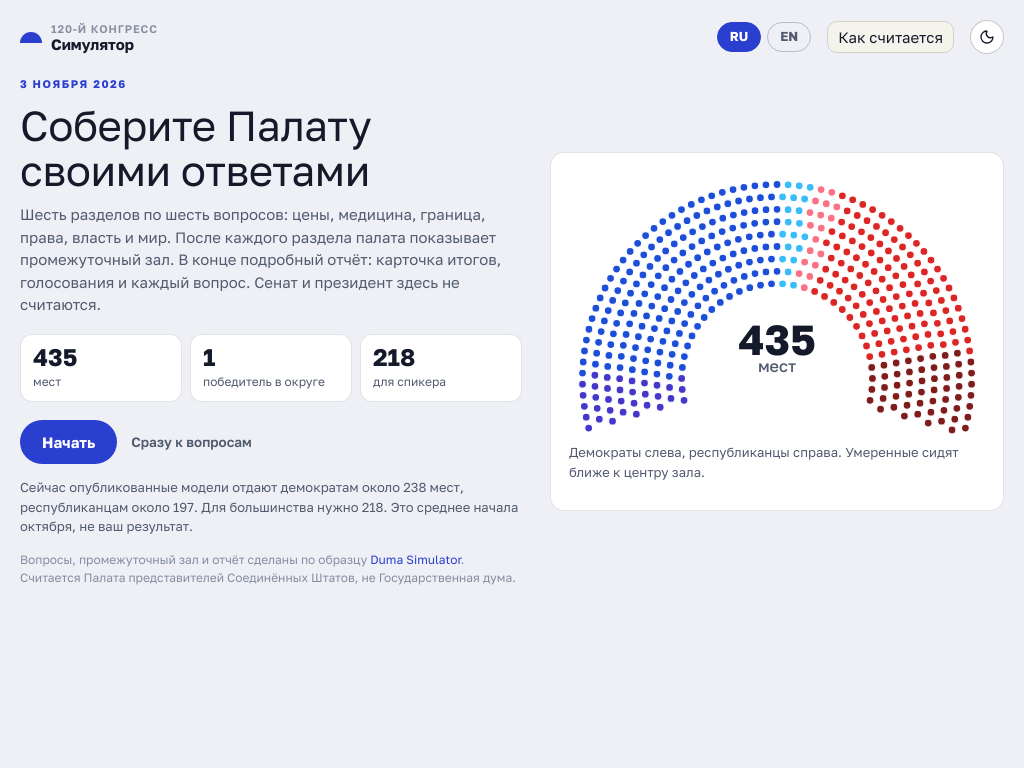
Test: симулятор › Назад отменяет ещё не случившийся переход
Click the button "Сразу к вопросам" at (192, 442), box 131,426 -> 252,458
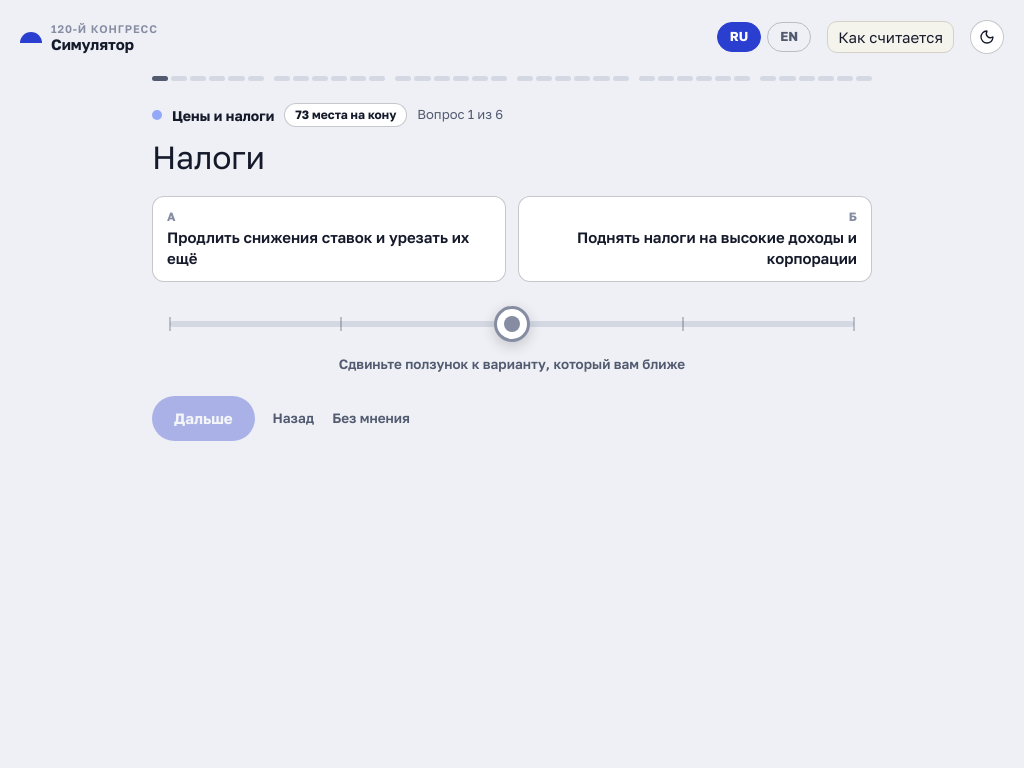
Click the radio button named "3 Середина" at (512, 324), box 498,308 -> 526,340
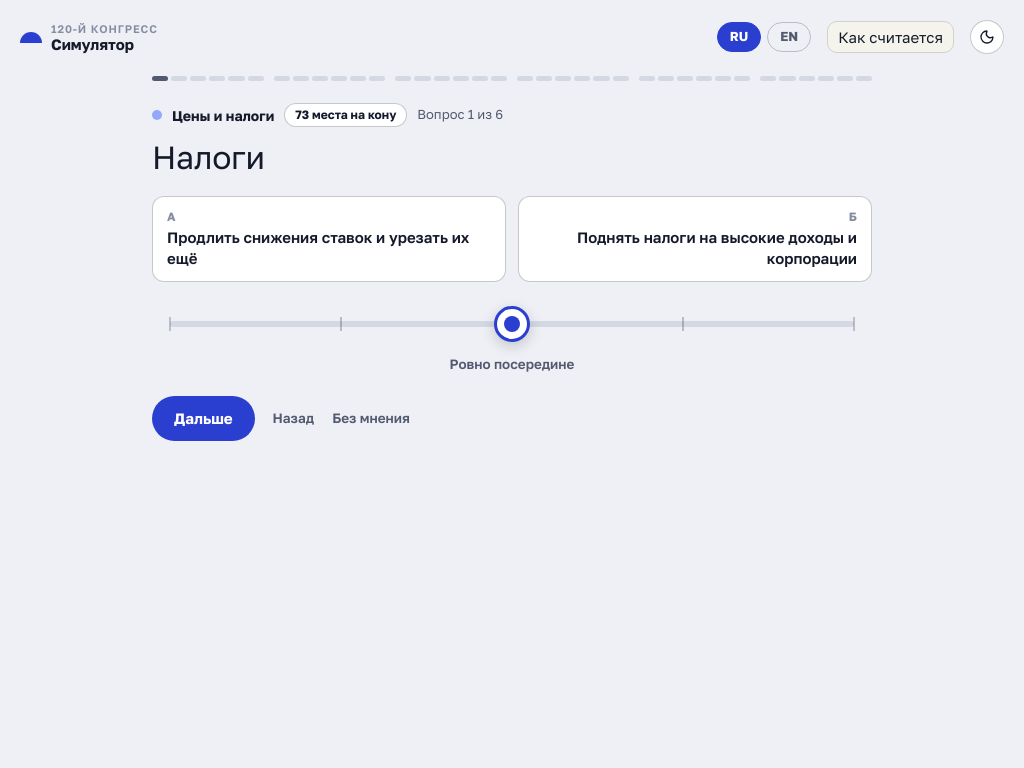
Click the button "Дальше" at (203, 418), box 152,396 -> 255,440
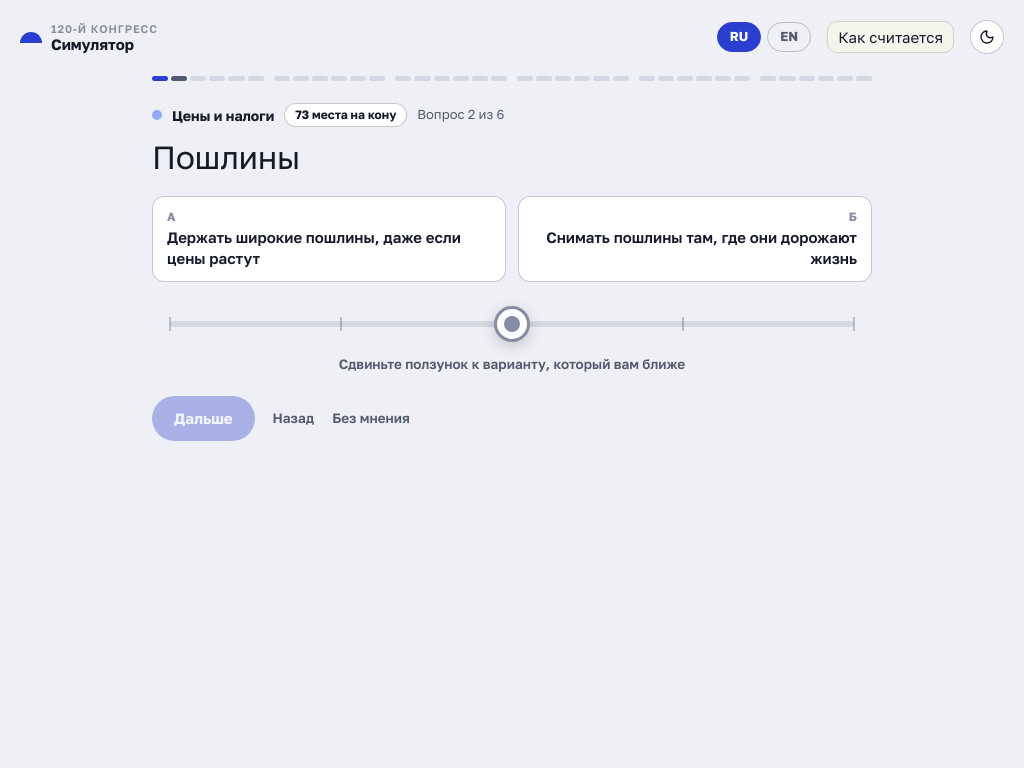
expect the text "Вопрос 2 из 6" is shown: met, box 417,105 -> 504,125
Click the button "Назад" at (293, 418), box 273,402 -> 314,434
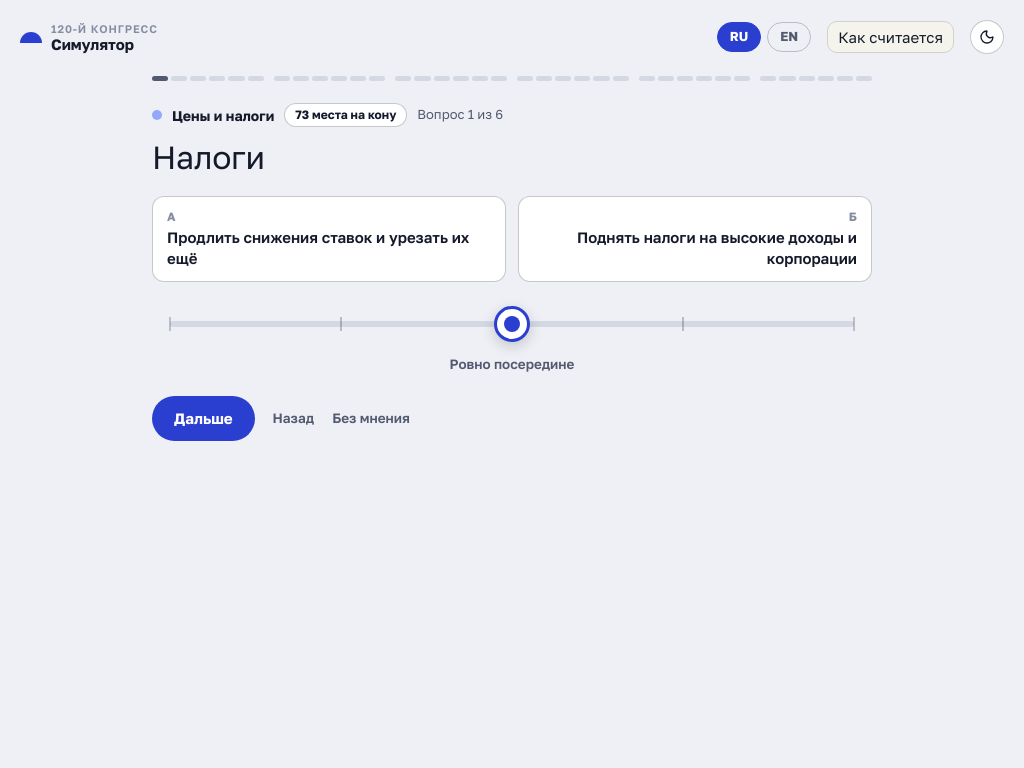
expect the text "Вопрос 1 из 6" is shown: met, box 417,105 -> 503,125
